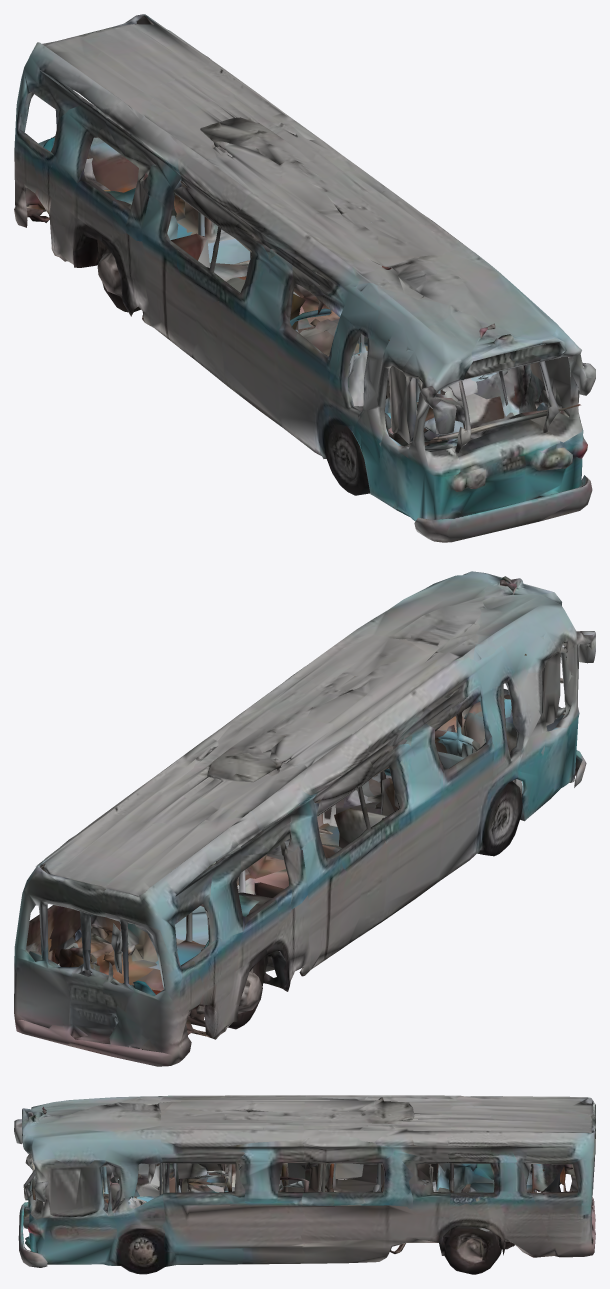
The model's file is re-bus.glb.
3 renders of one model, top to bottom at view 1: azimuth 30°, elevation 25°; view 2: azimuth 150°, elevation 25°; view 3: azimuth 270°, elevation 25°, orthographic. The views are drawn at different scales.
Bounding box in the file's own units: 0.2403 × 0.269 × 0.9989.
1 material, 1 textured.
